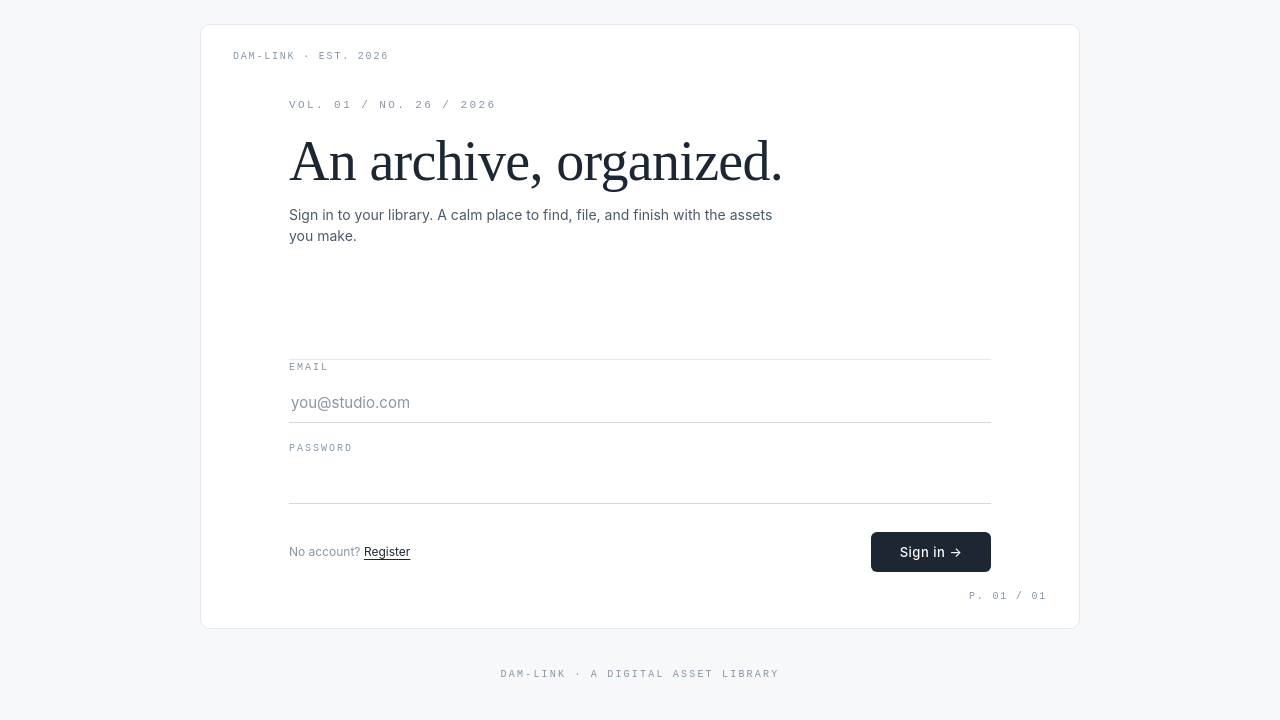
Test: LoginScreen client-side validation (T3) › blocks register submit on empty name and short password
Click the button "Register" at (387, 552), box [364, 532, 410, 572]
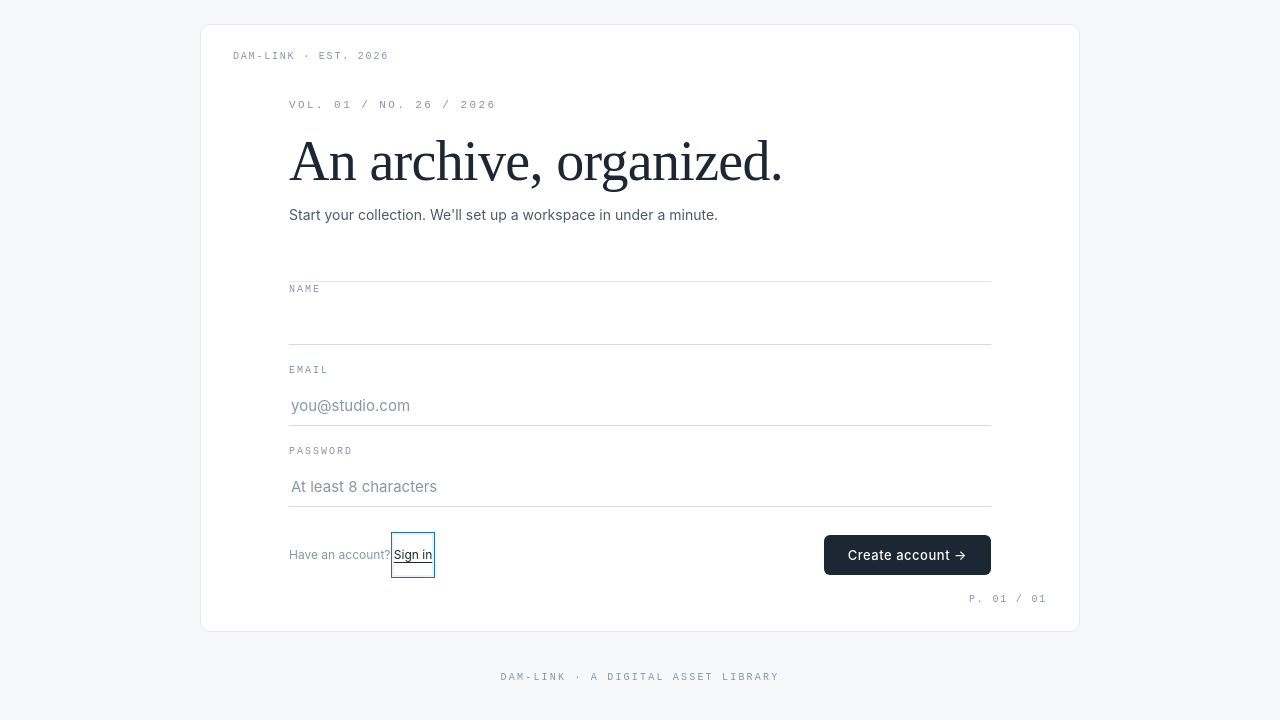
Note: Fill name + email but a 3-char password.
Type "Alex" into the field labelled "Name" at (640, 325), box [289, 305, 991, 345]
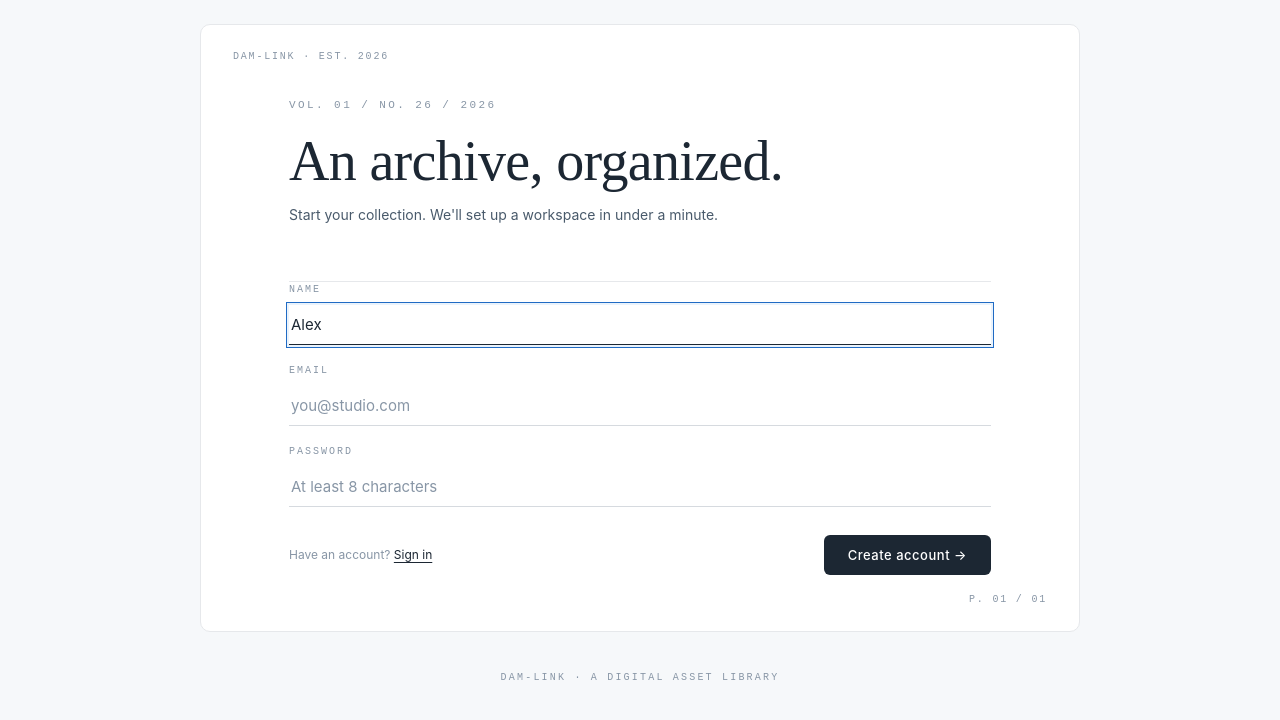
Type "alex@studio.com" into the field labelled "Email" at (640, 406), box [289, 386, 991, 426]
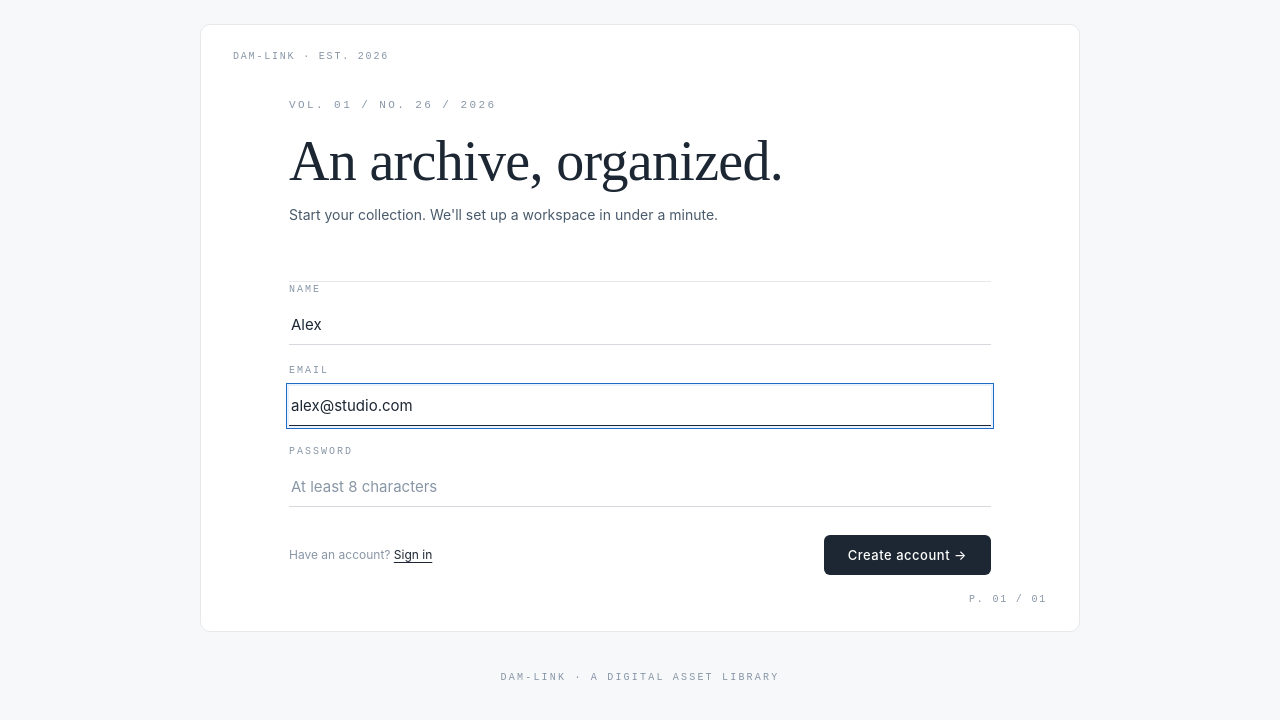
Type "abc" into the password field labelled "Password" at (640, 487), box [289, 467, 991, 507]
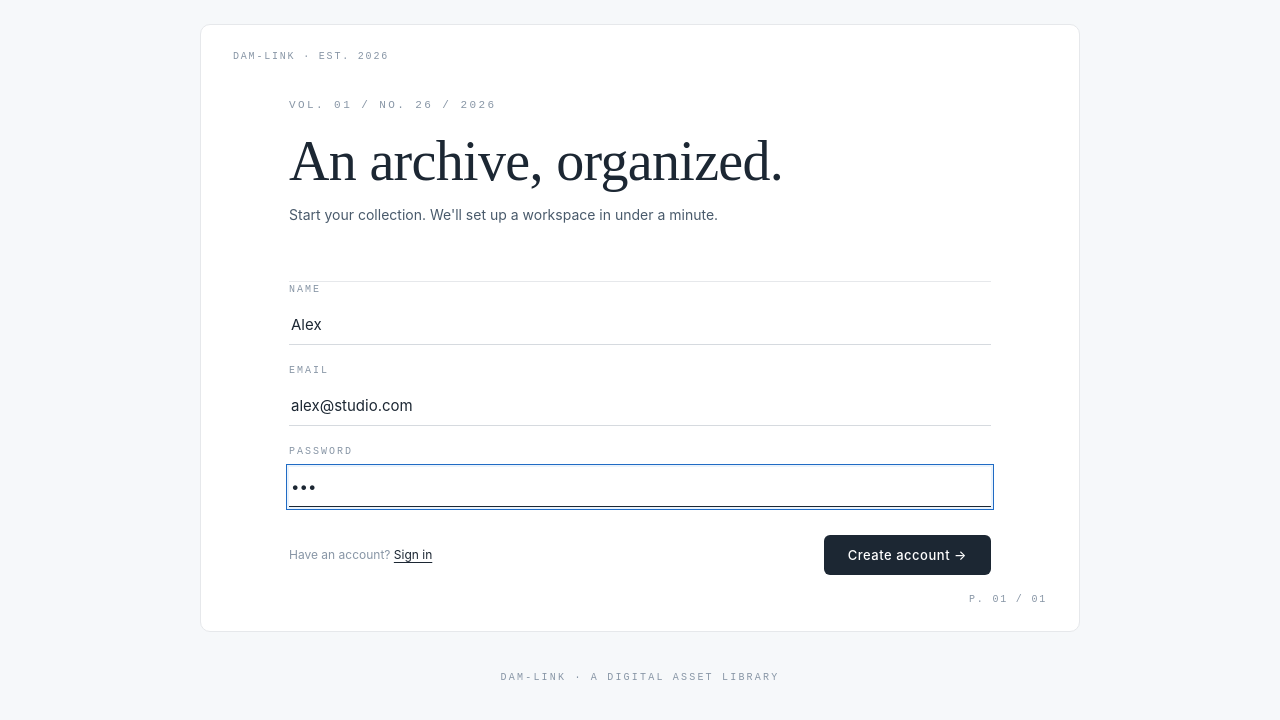
Click the button "Create account →" at (907, 555), box [824, 535, 991, 575]
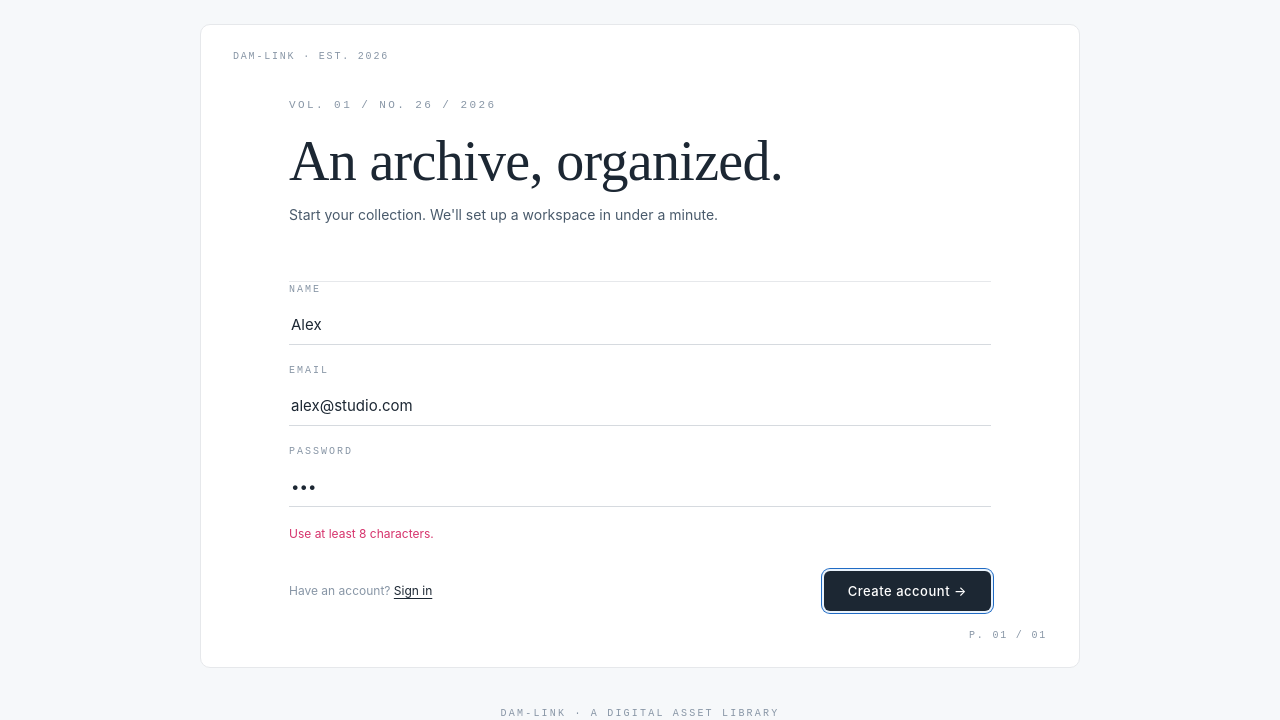
expect the message shows "at least 8 characters": met, box [289, 526, 434, 541]
